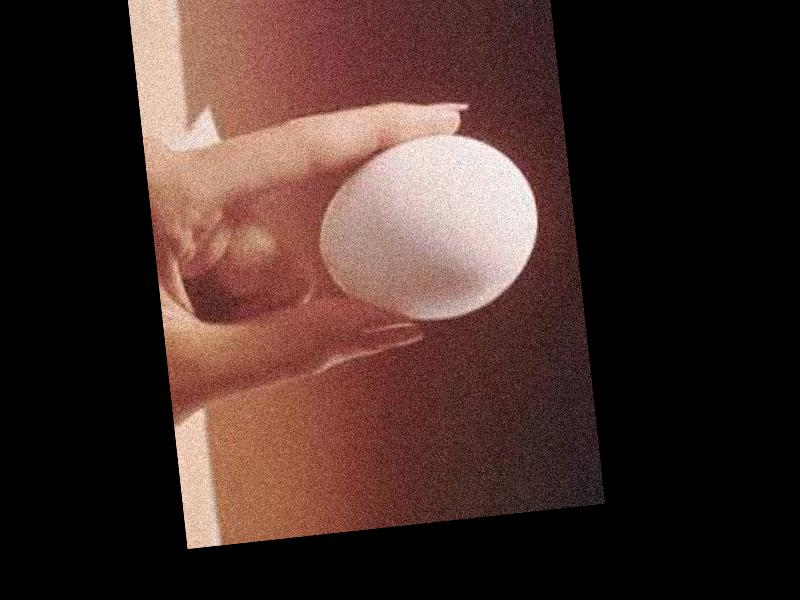Eggs: (308, 123, 548, 332)
